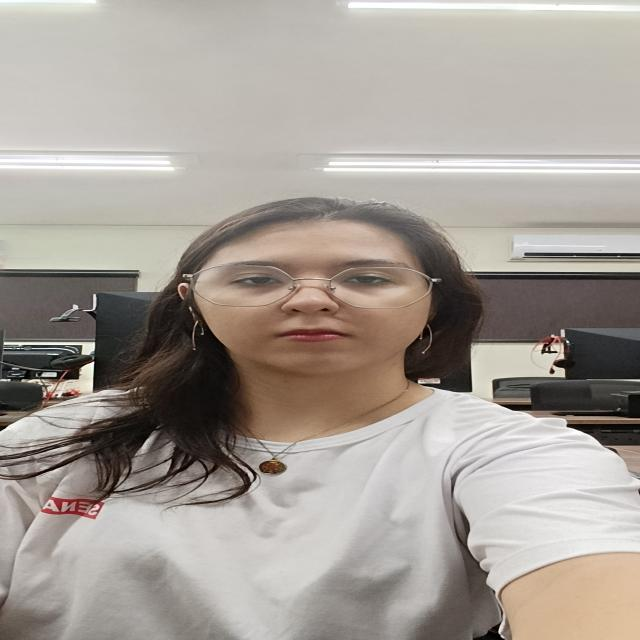sem_oculos: (183, 263, 440, 309)
